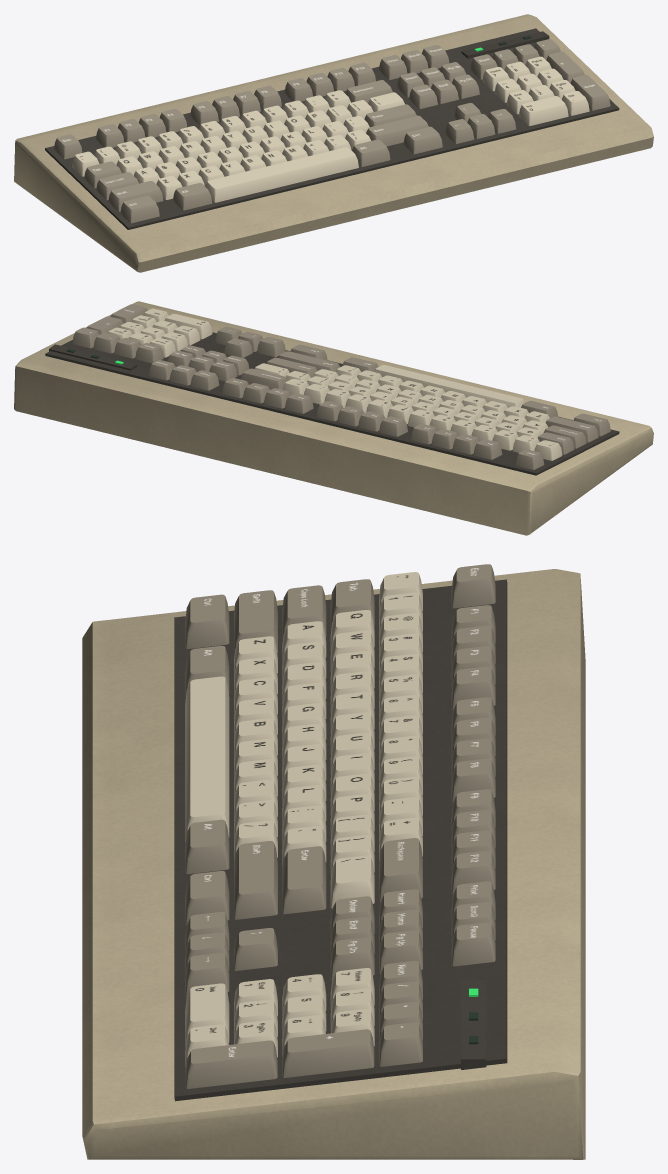
The model's file is keyboard.gltf.
The picture shows the model from 3 angles, top to bottom: view 1: azimuth 30°, elevation 25°; view 2: azimuth 150°, elevation 25°; view 3: azimuth 270°, elevation 25°; orthographic projection. The views are drawn at different scales.
Parts seen in each view (by area): view 1: keyboard; view 2: keyboard; view 3: keyboard.
Boxes of the visible parts, x1,y1,x2,y2 form: keyboard: (14,14,653,272); keyboard: (14,301,653,535); keyboard: (82,564,585,1159).
Size of the model in its own units: 0.47 by 0.052 by 0.198.
Materials: 8 (3 with a texture image).
